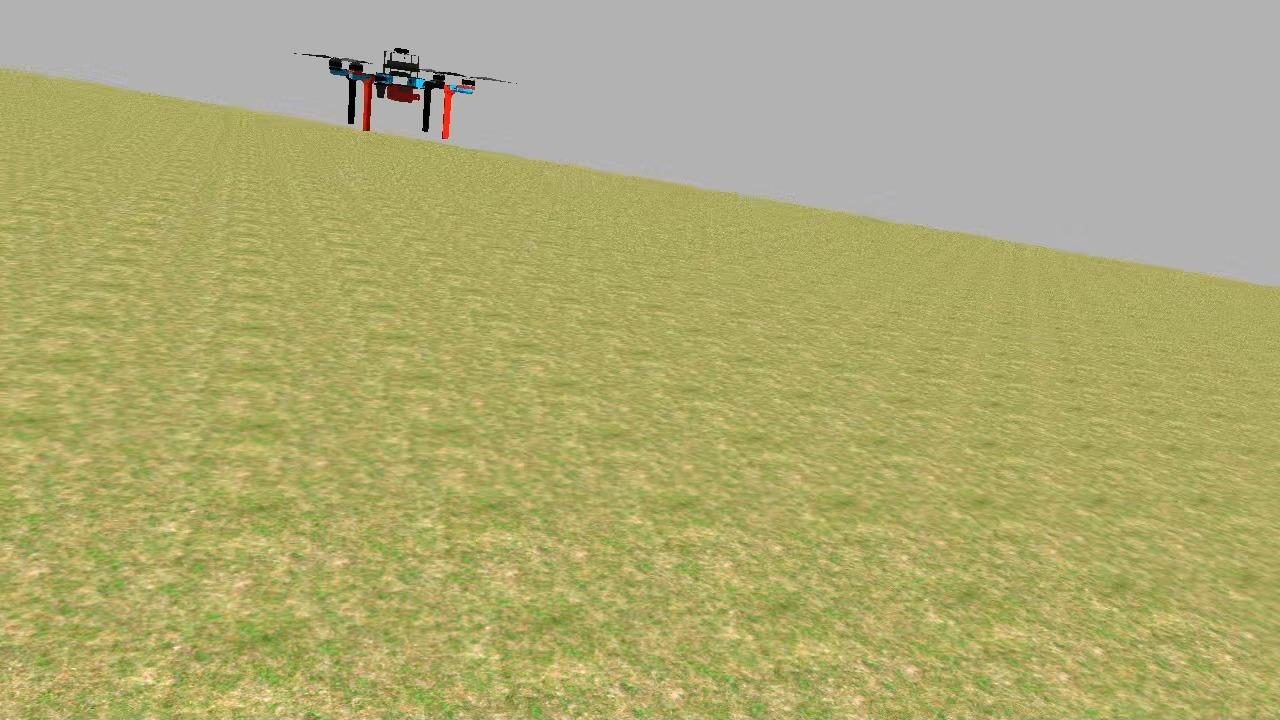UAV: (316, 40, 483, 143)
